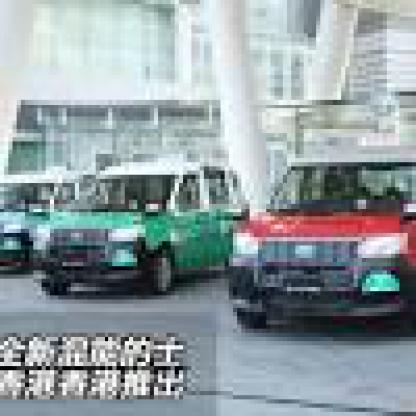taxi: (226, 130, 413, 350), (34, 151, 251, 305)
